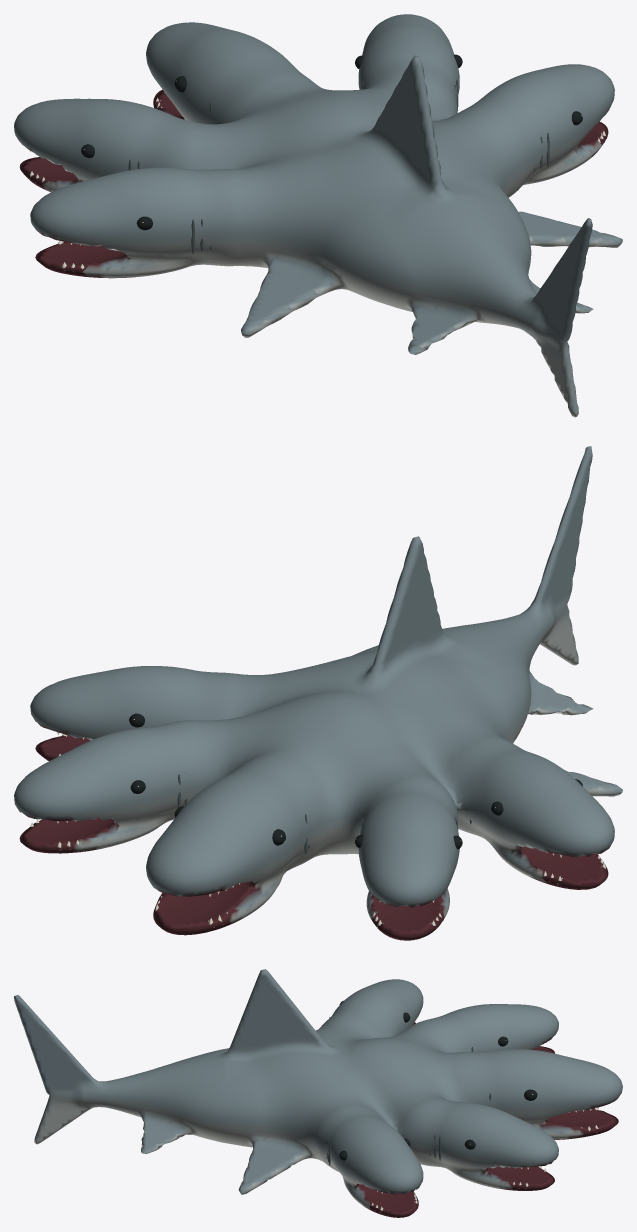
File: hydra_5.glb
3 views of the same model, one above another, from view 1: azimuth 30°, elevation 25°; view 2: azimuth 150°, elevation 25°; view 3: azimuth 270°, elevation 25° (orthographic). The views are drawn at different scales.
Parts seen in each view (by area): view 1: UnifiedHydra; view 2: UnifiedHydra; view 3: UnifiedHydra.
Part boxes in pixels (x1,y1,x2,y2): UnifiedHydra: (14,14,622,417); UnifiedHydra: (14,446,622,940); UnifiedHydra: (14,969,622,1217).
Bounding box in the file's own units: 3.49 × 1.44 × 4.48.
